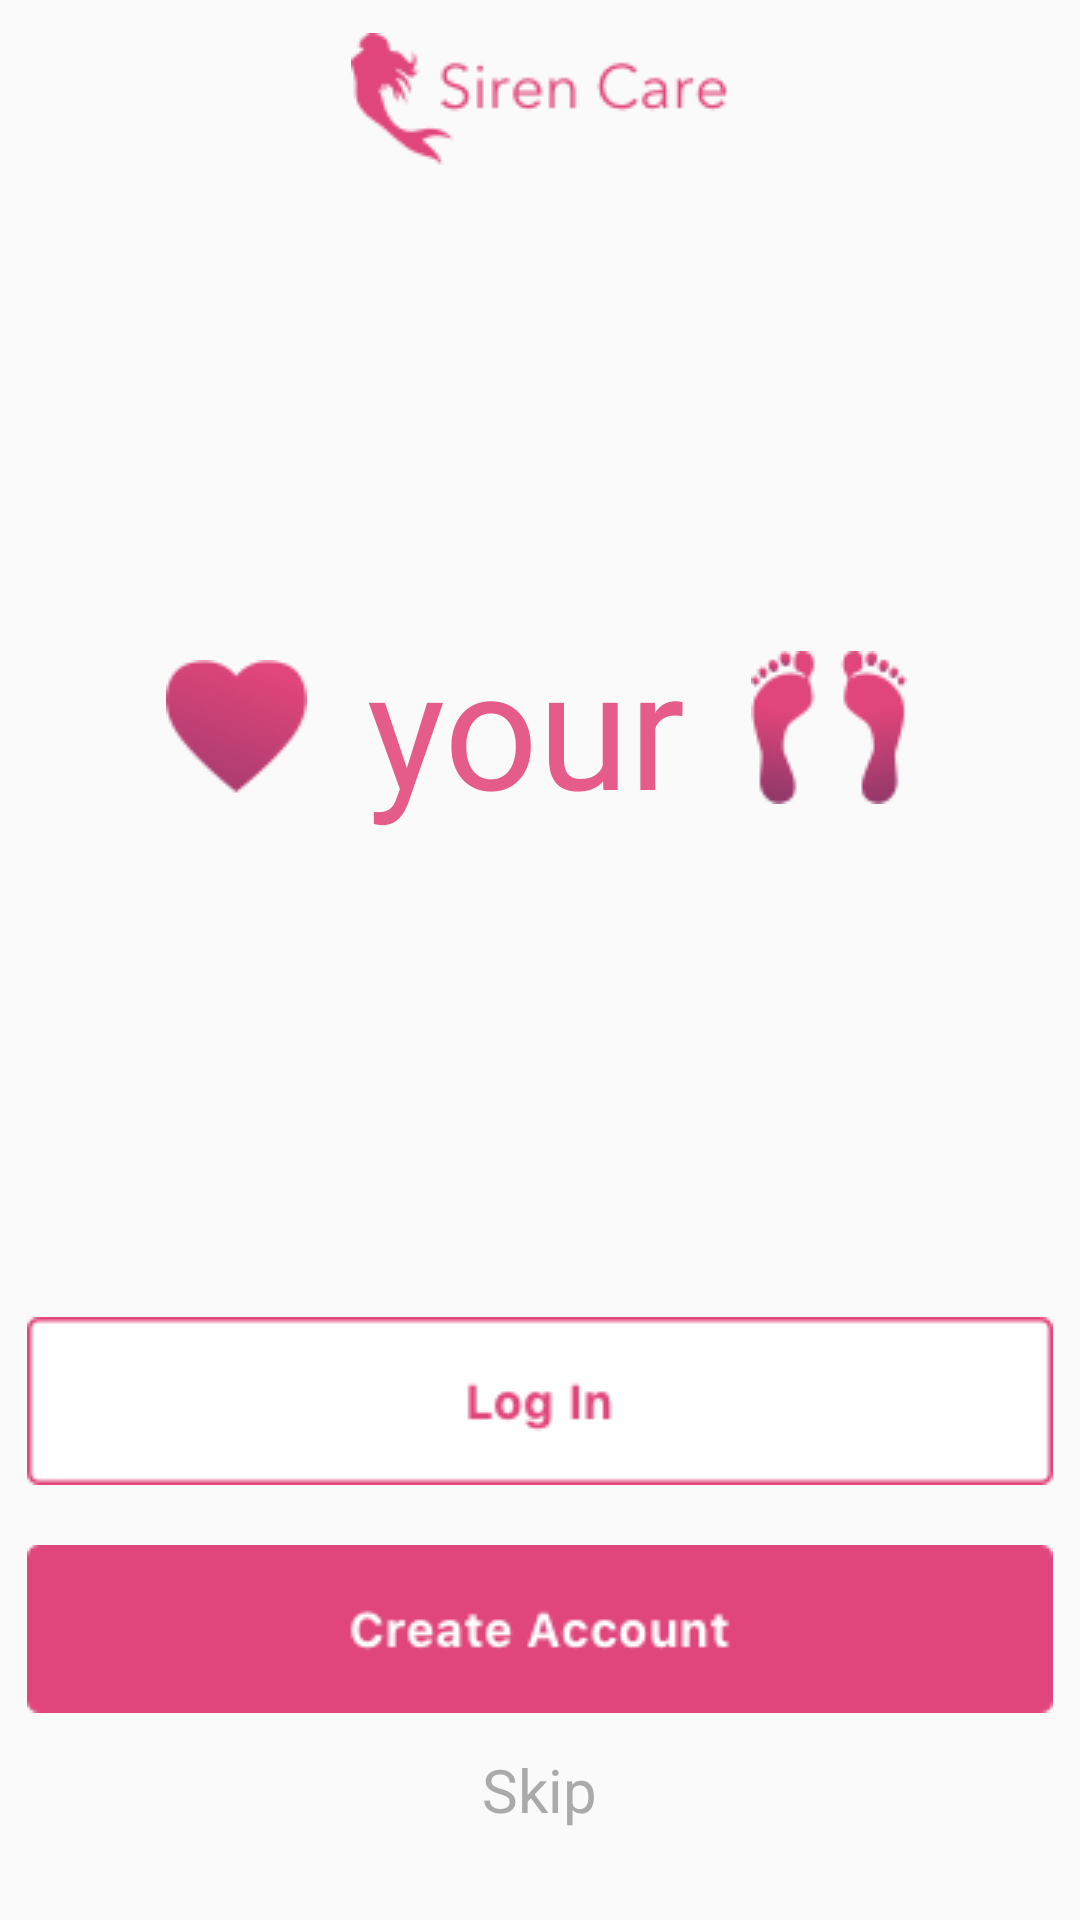

Locate icon controls on the screen. Image size 1080×1920, boxes as (x1, y1, x2, y2).
heart: (166, 660, 307, 793)
redfeet: (751, 651, 907, 804)
